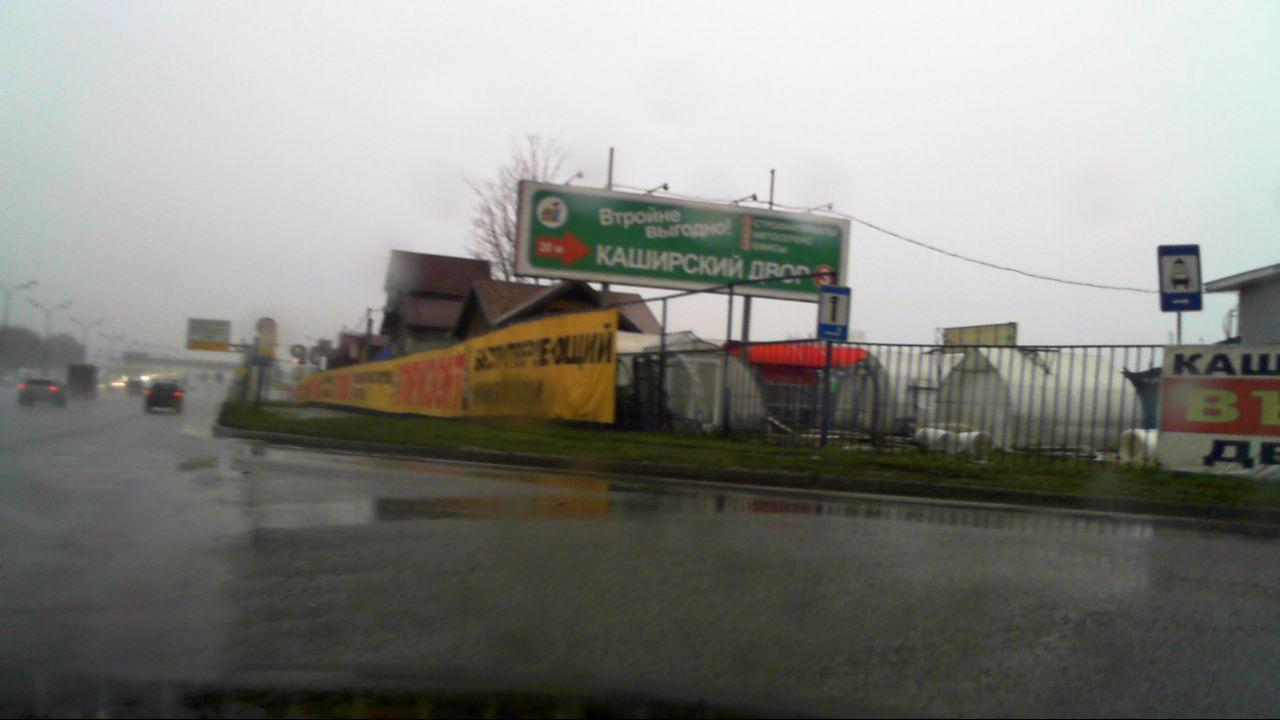3_24: (255, 316, 278, 338)
7_4: (816, 286, 851, 341)
7_5: (1157, 241, 1206, 316)
